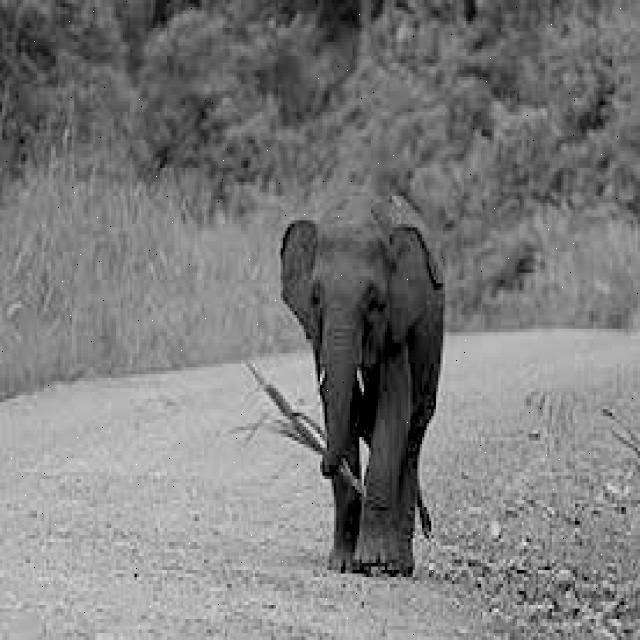Elephant: (278, 168, 445, 577)
